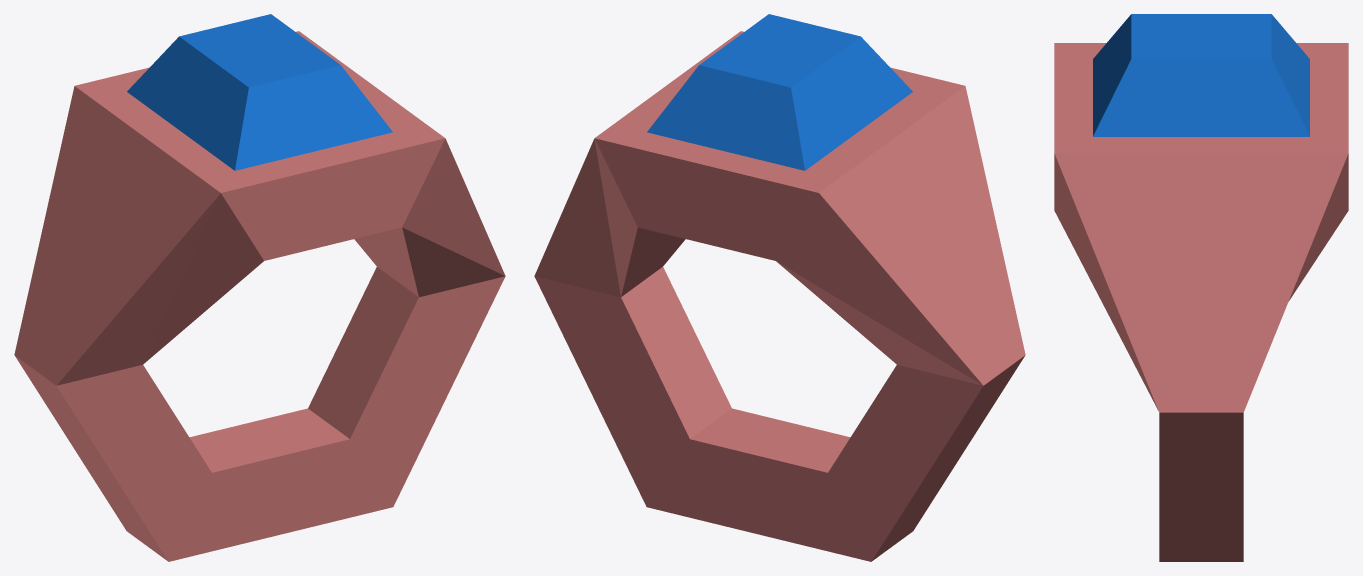
Rendered from SM_ring_7.fbx.
3 renders of one model, left to right at view 1: azimuth 30°, elevation 25°; view 2: azimuth 150°, elevation 25°; view 3: azimuth 270°, elevation 25°, orthographic.
Parts seen in each view (by area): view 1: Tube_1; view 2: Tube_1; view 3: Tube_1.
Boxes of the visible parts, x1=… form: Tube_1: x1=14, y1=14, x2=505, y2=561; Tube_1: x1=534, y1=14, x2=1025, y2=561; Tube_1: x1=1054, y1=14, x2=1348, y2=561.
Bounding box in the file's own units: 3.39 × 3.37 × 1.91.
